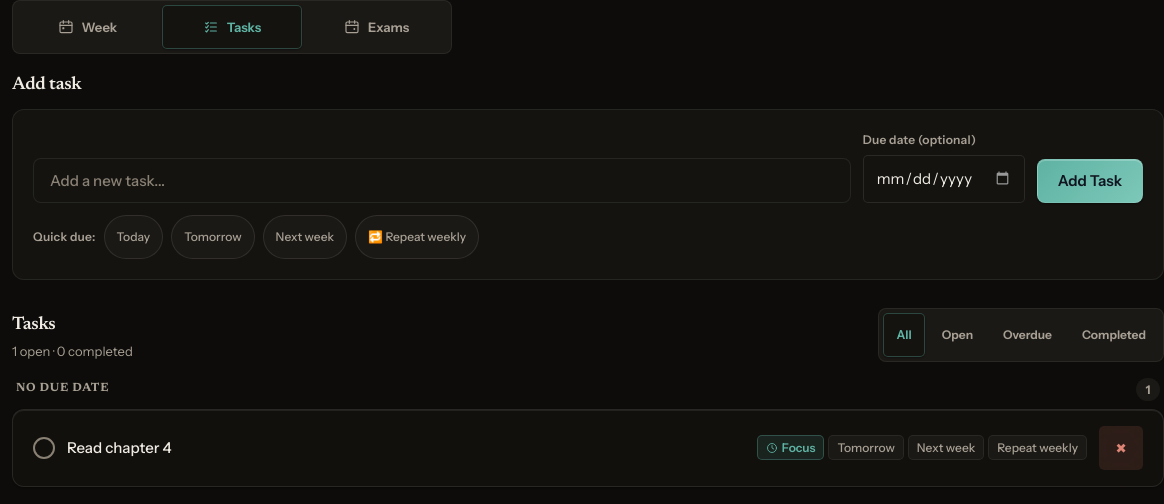
Test: TasksView › toggles a task optimistically, before the write resolves
The image size is (1164, 504).
Click the checkbox labelled "Read chapter 4" at (588, 448), box [12,409,1163,487]
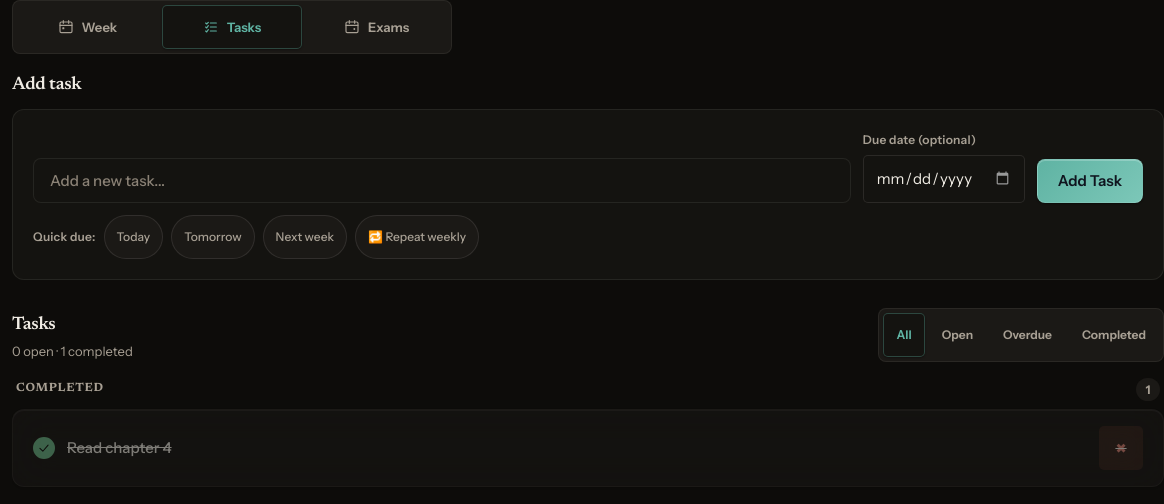
Expected: the checkbox labelled "Read chapter 4" is checked, [12,409,1163,487]
